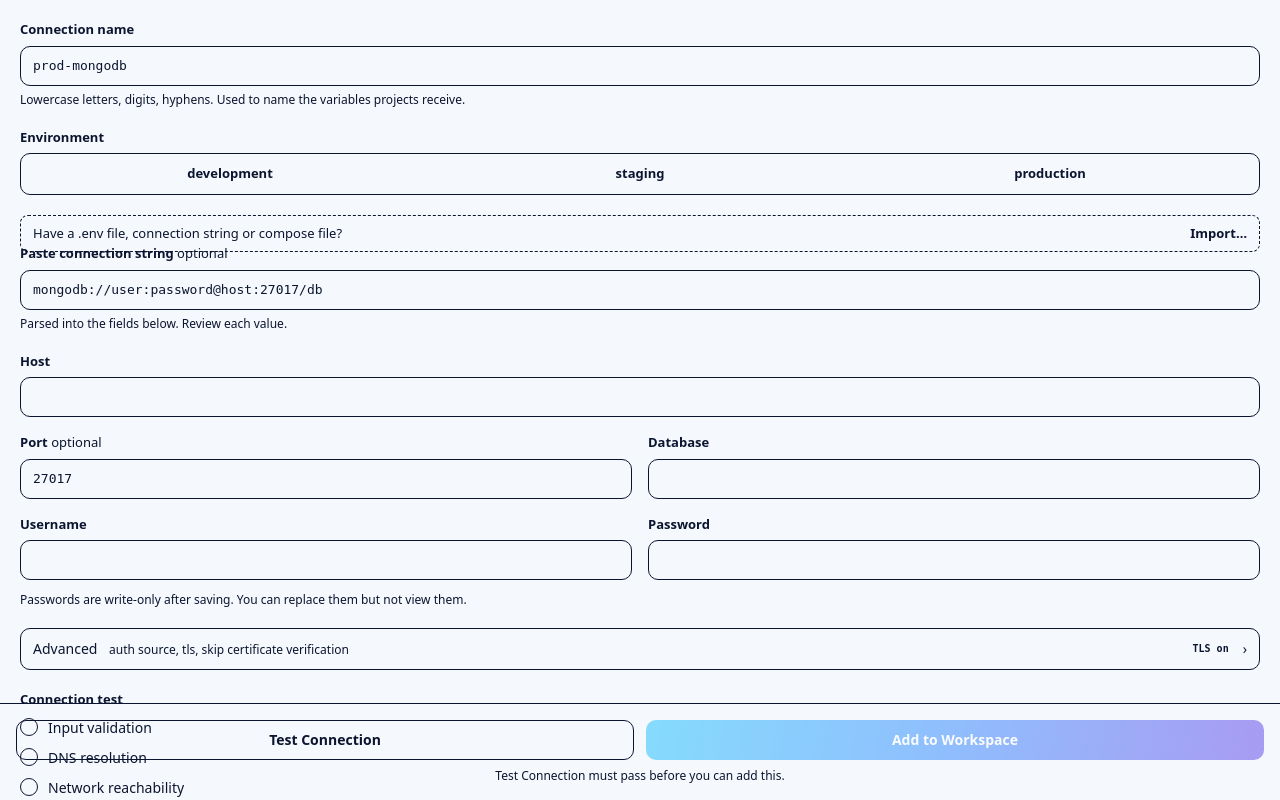
ConnectTab form › a failed test keeps the entered values and shows the specific reason
Type "prod-orders-db" into the field labelled "Connection name" at (640, 66), box 20,46 -> 1260,86
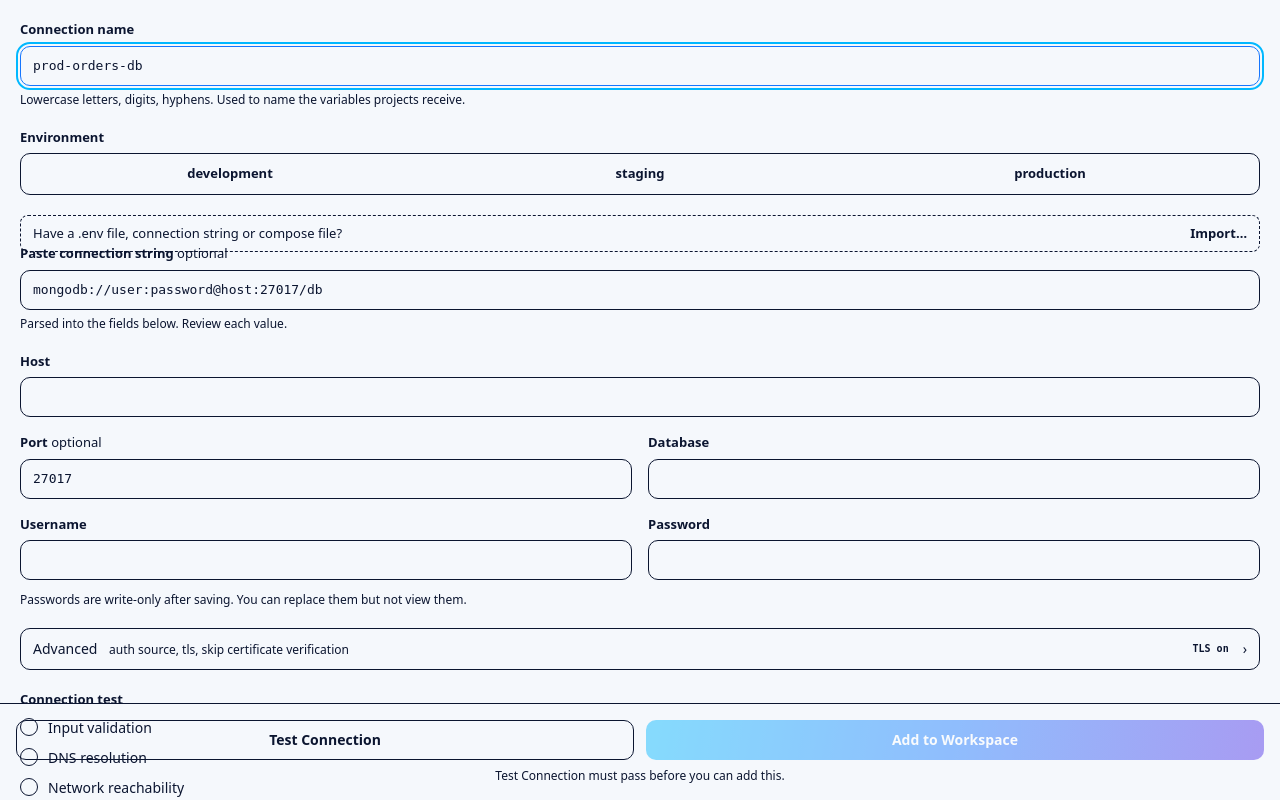
Type "orders.k3x9p.mongodb.net" into the field labelled "Host" at (640, 397), box 20,377 -> 1260,417
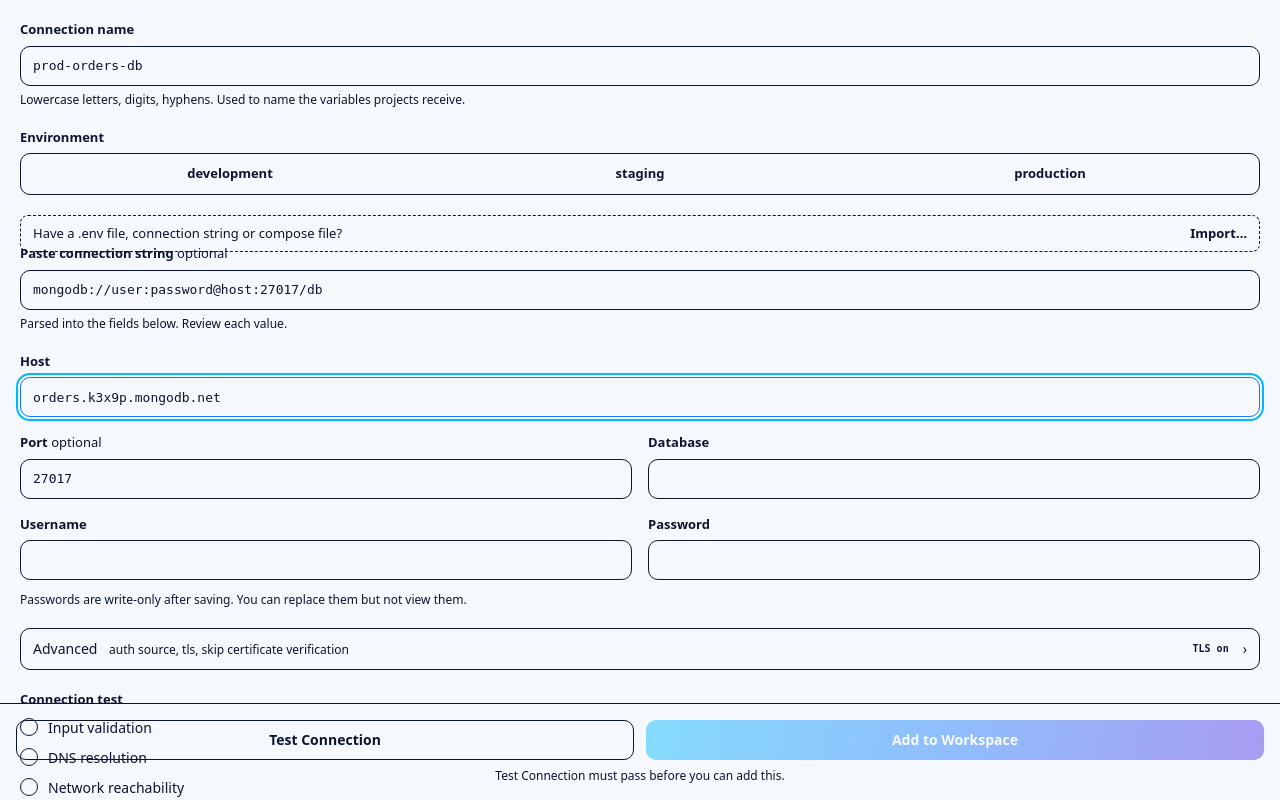
Type "orders" into the field labelled "Database" at (954, 478), box 648,458 -> 1260,498
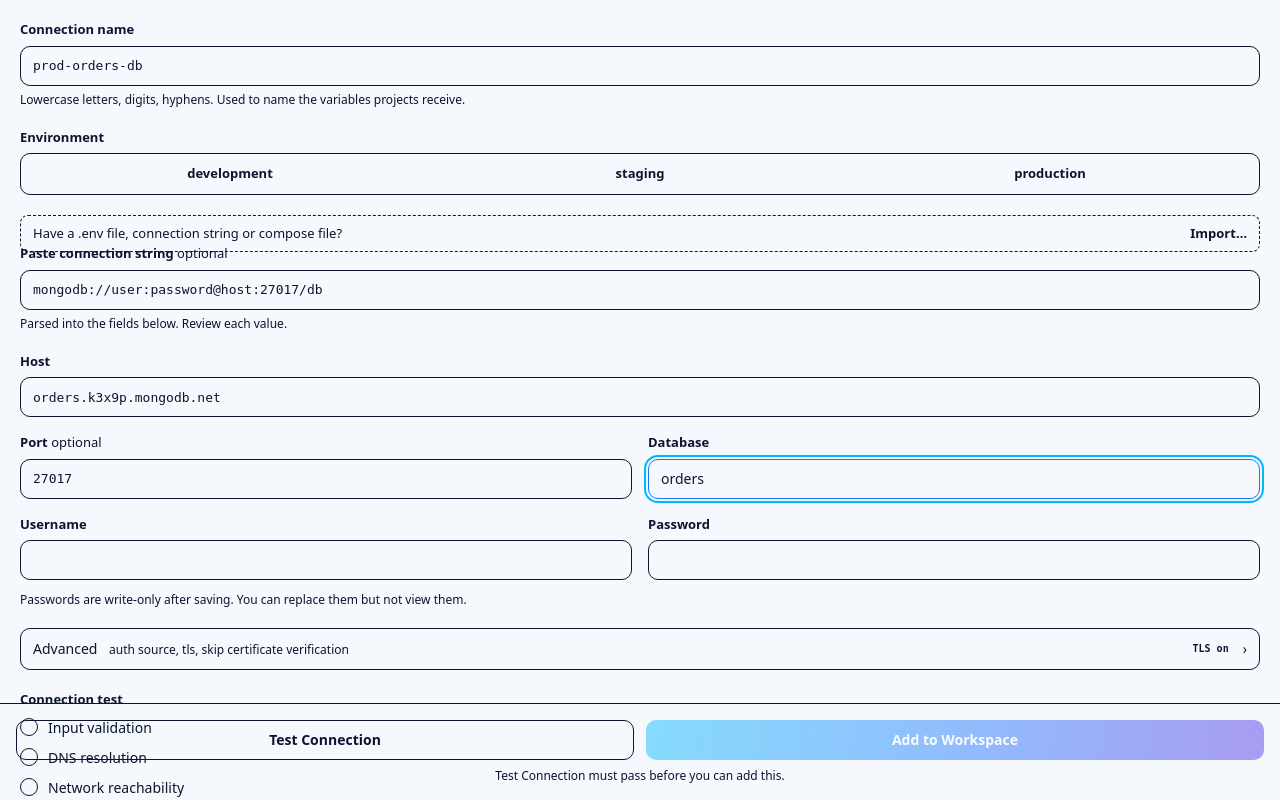
Type "orders_app" into the field labelled "Username" at (326, 560), box 20,540 -> 632,580
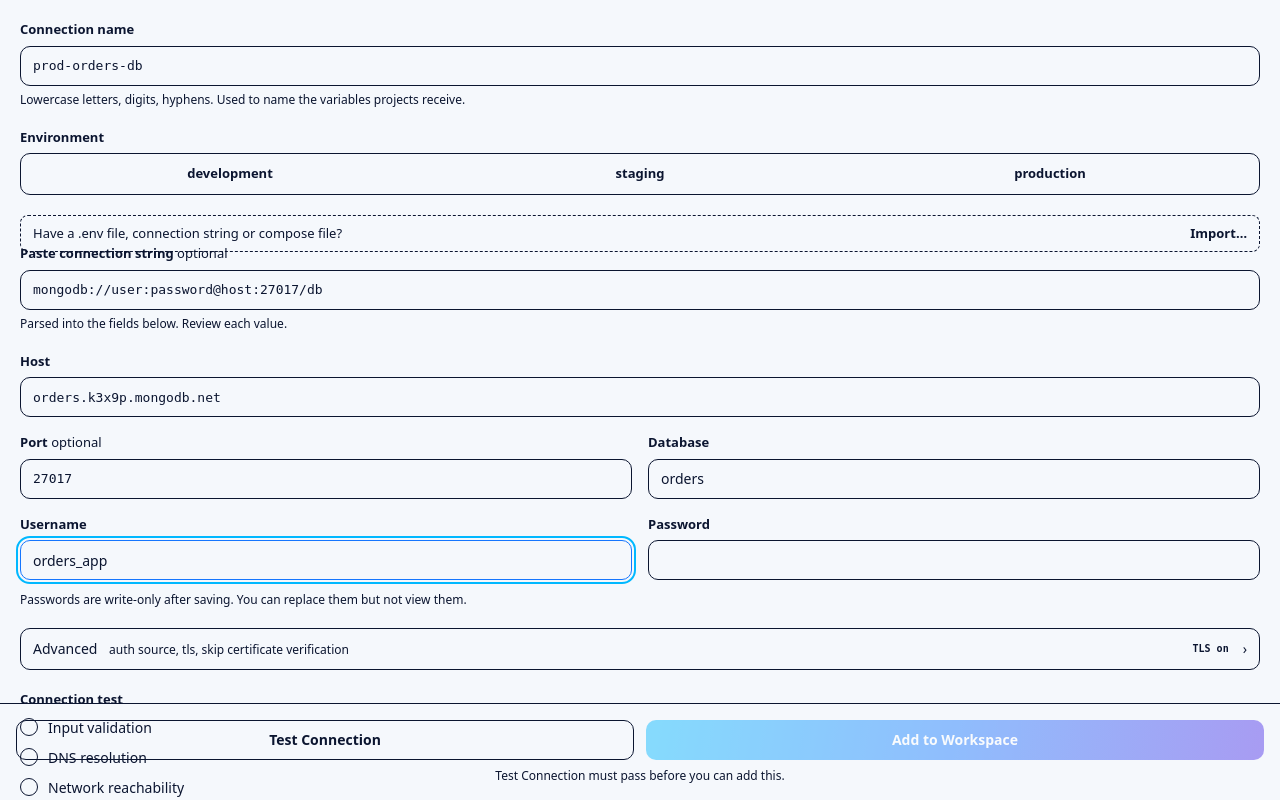
Type "S3cretPassw0rd" into the password field labelled "Password" at (954, 560), box 648,540 -> 1260,580
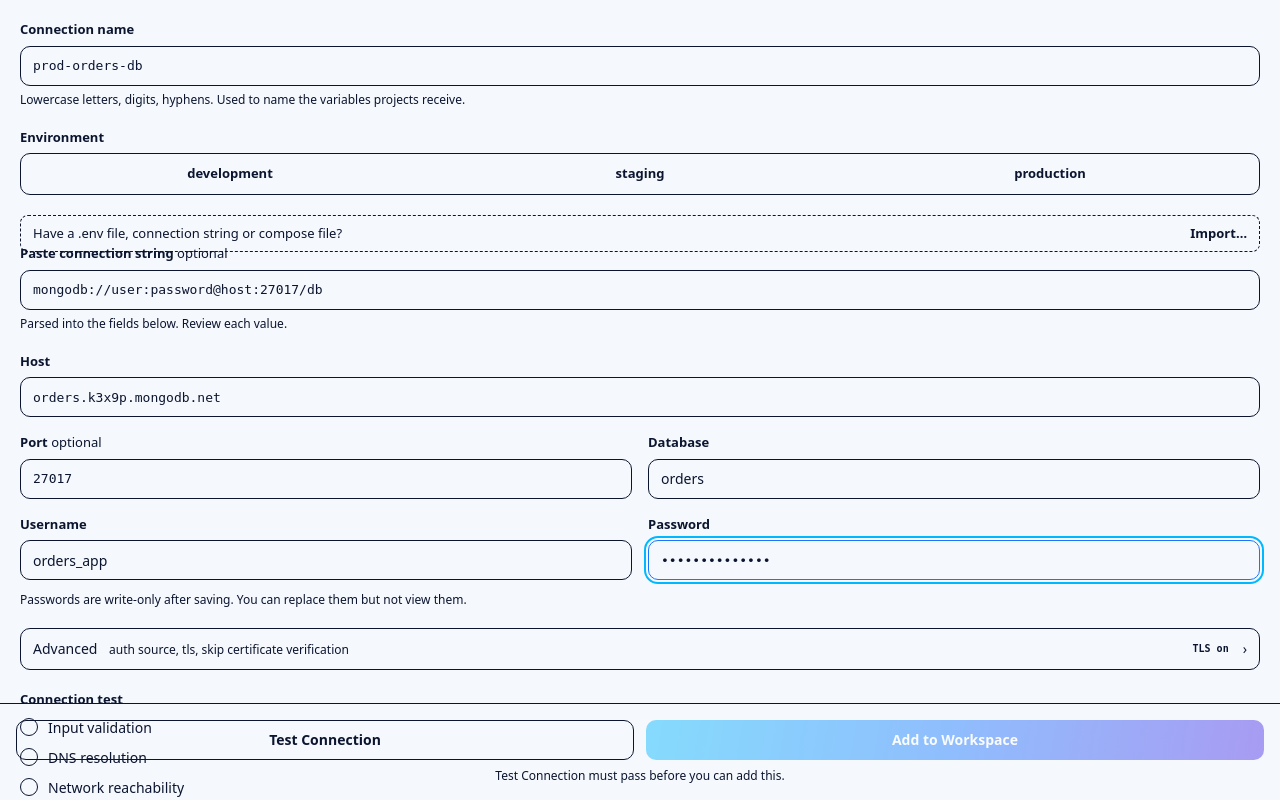
Click the button "Test Connection" at (325, 740), box 16,720 -> 634,760
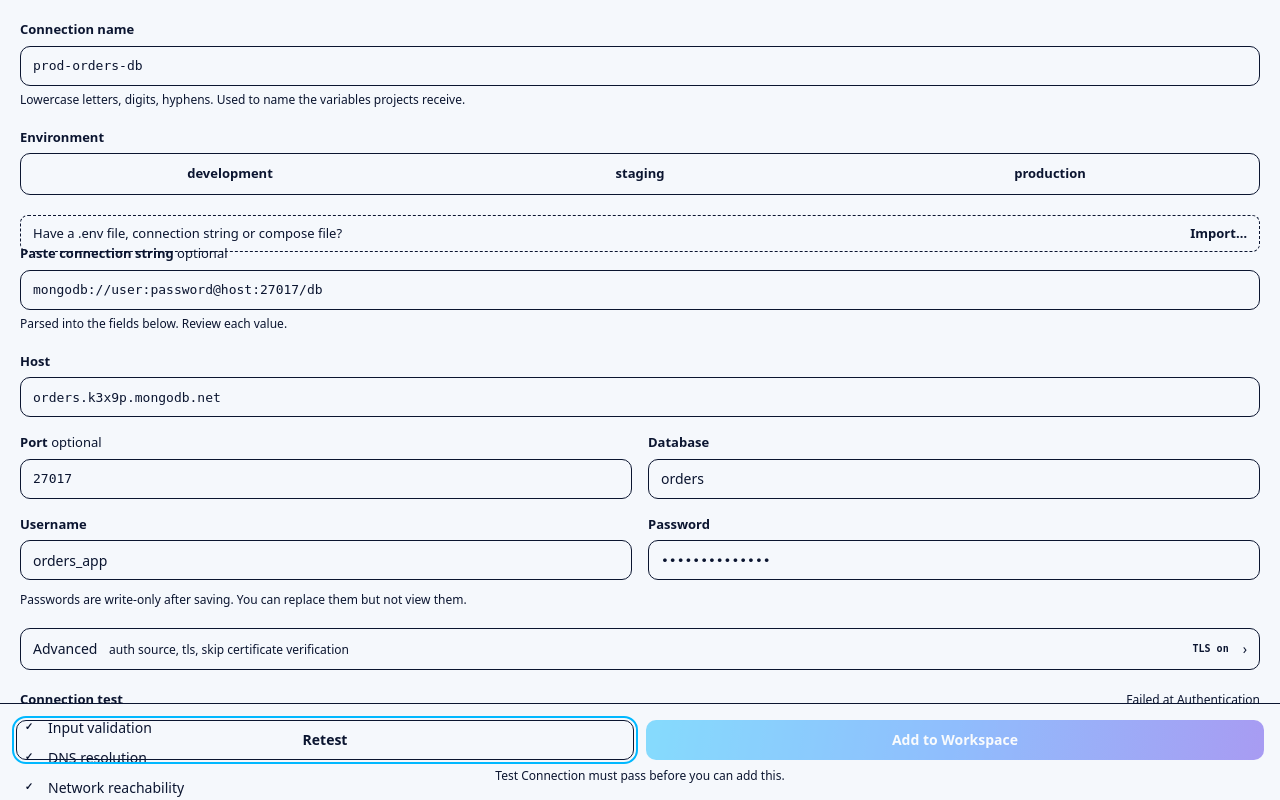
Check: the button "Add to Workspace" is disabled, box 646,720 -> 1264,760
Check: the message reads "Failed at Authentication", box 1126,691 -> 1260,708
Check: the button "Retest" is shown, box 16,720 -> 634,760
